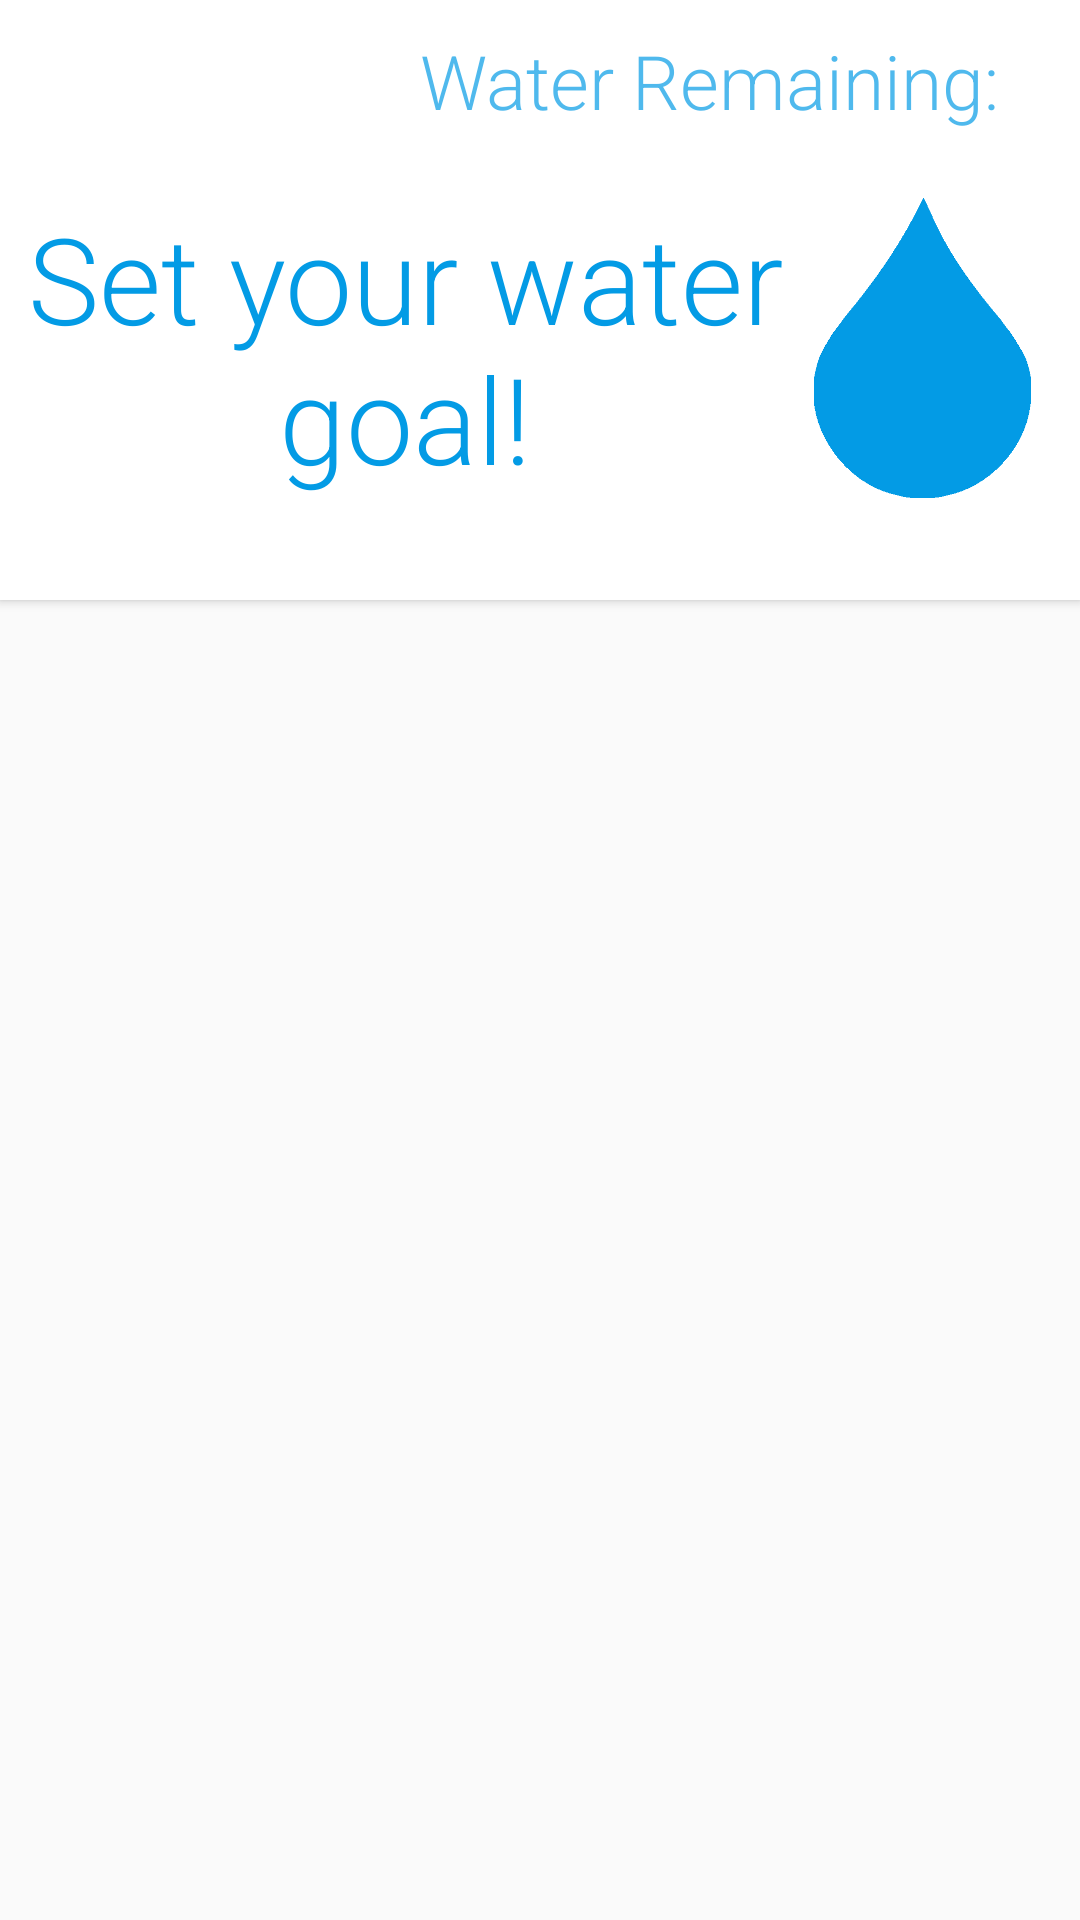

Icon click points for this 1080 x 1920 phone screenshot, format point (x, y):
dropletblue: point (922, 348)
